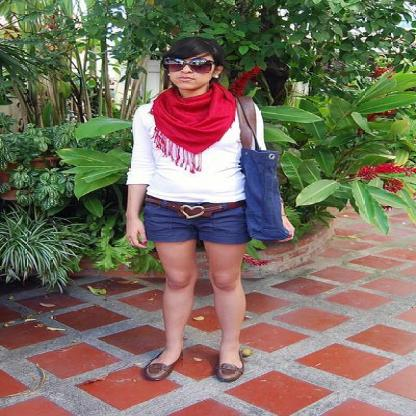bag: (230, 85, 287, 240)
shirt: (127, 99, 266, 203)
shoe: (142, 359, 238, 382)
shorts: (138, 209, 261, 251)
sunglass: (150, 50, 220, 74)
